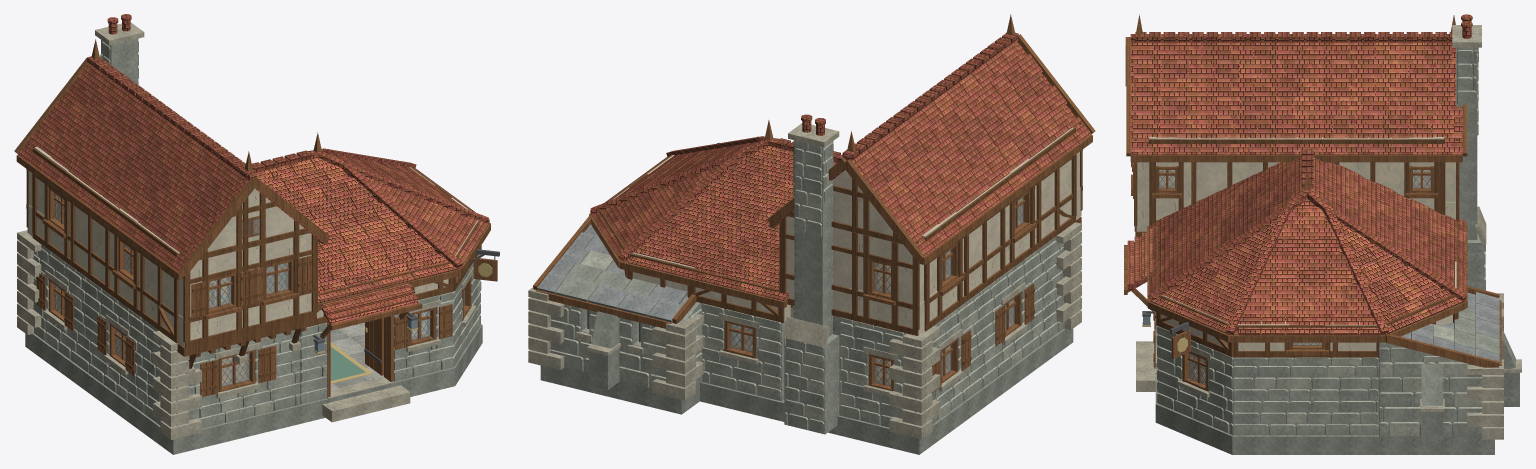
The model's file is bank.glb.
3 views of the same model, side by side, from view 1: azimuth 30°, elevation 25°; view 2: azimuth 150°, elevation 25°; view 3: azimuth 270°, elevation 25° (orthographic). The views are drawn at different scales.
Visible parts, largest first — view 1: Bank_RoofTiles, Bank_ShellFacing, Bank_UpperShellTimber, Bank_RoofTrim, Bank_UpperShell, Bank_ShellWindows, Bank_FloorPlinth, Bank_ShellQuoins, Bank_UpperShellWindows, Bank_RoofHood, Bank_UpperChimney, Bank_ShellStone (+12 smaller); view 2: Bank_RoofTiles, Bank_ShellFacing, Bank_RoofTrim, Bank_ShellQuoins, Bank_UpperShellTimber, Bank_UpperShell, Bank_FloorPlinth, Bank_UpperChimney, Bank_ShellChimneyBase, Bank_RoofSlabStones, Bank_ShellWindows, Bank_ShellStone (+7 smaller); view 3: Bank_RoofTiles, Bank_ShellFacing, Bank_RoofTrim, Bank_FloorPlinth, Bank_ShellStone, Bank_UpperShell, Bank_UpperShellTimber, Bank_UpperChimney, Bank_RoofSlabStones, Bank_ShellFriezeTimber, Bank_RoofSlab, Bank_ShellQuoins (+8 smaller).
Part boxes in pixels (x1,y1,x2,y2): Bank_RoofTiles: (18, 62, 488, 303); Bank_ShellFacing: (26, 232, 481, 428); Bank_UpperShellTimber: (26, 142, 318, 348); Bank_RoofTrim: (14, 39, 490, 310); Bank_UpperShell: (28, 146, 311, 347); Bank_ShellWindows: (36, 267, 476, 398); Bank_FloorPlinth: (25, 324, 482, 454); Bank_ShellQuoins: (17, 230, 201, 439); Bank_UpperShellWindows: (42, 187, 312, 319); Bank_RoofHood: (319, 277, 422, 330); Bank_UpperChimney: (95, 14, 144, 85); Bank_ShellStone: (37, 248, 477, 428); Bank_RoofTiles: (591, 39, 1091, 300); Bank_ShellFacing: (549, 237, 1065, 427); Bank_RoofTrim: (533, 14, 1095, 328); Bank_ShellQuoins: (528, 222, 1081, 439); Bank_UpperShellTimber: (779, 122, 1082, 335); Bank_UpperShell: (786, 127, 1080, 335); Bank_FloorPlinth: (540, 328, 1073, 454); Bank_UpperChimney: (788, 114, 839, 321); Bank_ShellChimneyBase: (783, 315, 839, 434); Bank_RoofSlabStones: (537, 232, 687, 322); Bank_ShellWindows: (575, 282, 1034, 396); Bank_ShellStone: (552, 240, 1062, 425); Bank_RoofTiles: (1131, 42, 1465, 335); Bank_ShellFacing: (1156, 326, 1482, 436); Bank_RoofTrim: (1125, 14, 1501, 367); Bank_FloorPlinth: (1155, 329, 1494, 454); Bank_ShellStone: (1158, 331, 1519, 446); Bank_UpperShell: (1136, 136, 1455, 231); Bank_UpperShellTimber: (1134, 84, 1459, 231); Bank_UpperChimney: (1452, 14, 1481, 220); Bank_RoofSlabStones: (1411, 292, 1499, 361); Bank_ShellFriezeTimber: (1155, 220, 1459, 357); Bank_RoofSlab: (1130, 43, 1474, 365); Bank_ShellQuoins: (1420, 293, 1521, 439).
Size of the model in its own units: 12.43 by 9.58 by 11.13.
Materials: 28 (18 with a texture image).
